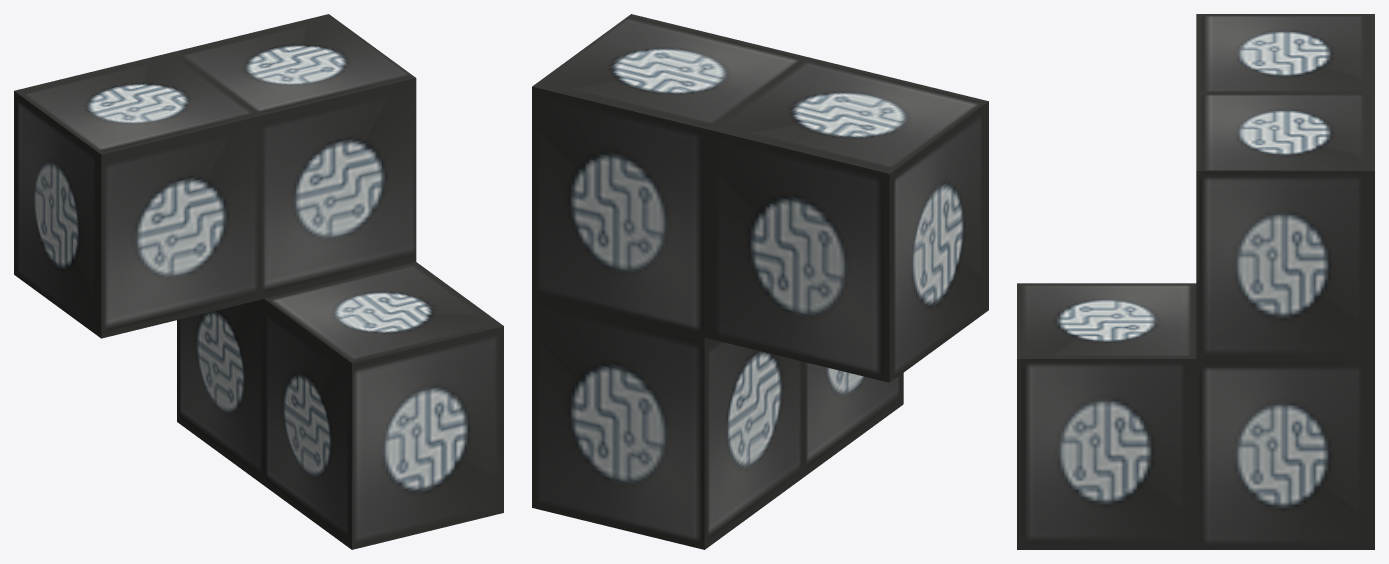
The model's file is Nivel3MPF5.fbx.
3 views of the same model, side by side, from view 1: azimuth 30°, elevation 25°; view 2: azimuth 150°, elevation 25°; view 3: azimuth 270°, elevation 25° (orthographic). The views are drawn at different scales.
Visible parts, largest first — view 1: pCube11; view 2: pCube11; view 3: pCube11.
Boxes of the visible parts, x1,y1,x2,y2 form: pCube11: (14,14,503,549); pCube11: (532,14,988,549); pCube11: (1017,14,1374,549).
Size of the model in its own units: 1.16 by 1.31 by 1.12.
Materials: 1 (1 with a texture image).
